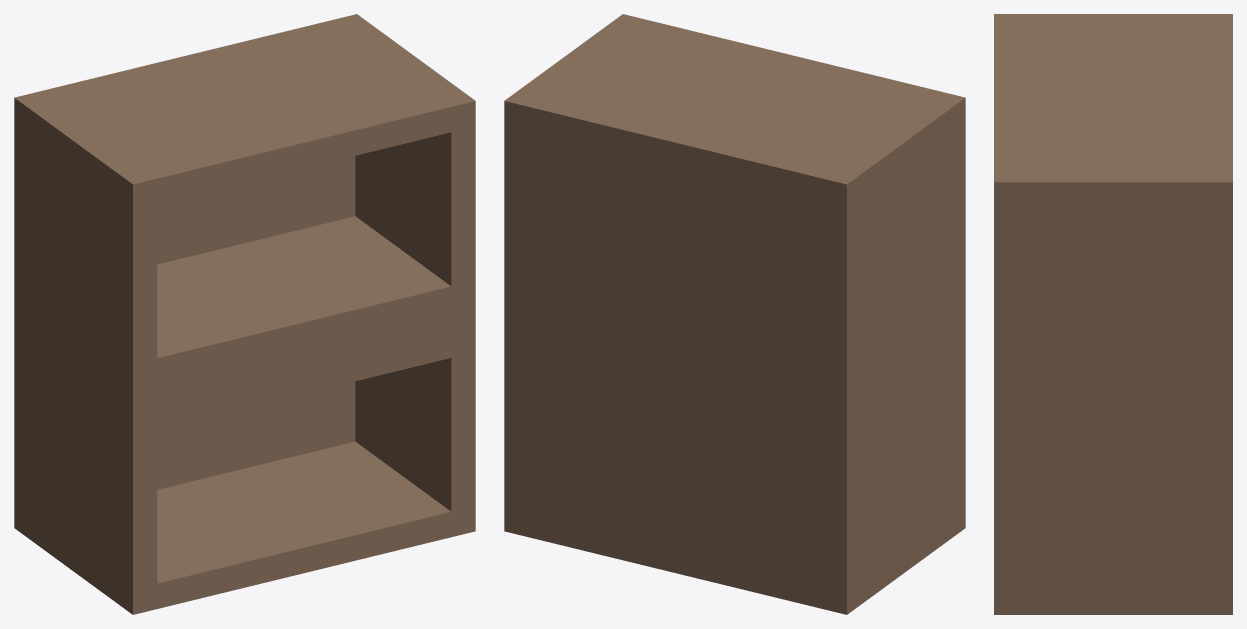
File: shelf 1.FBX
The picture shows the model from 3 angles, left to right: view 1: azimuth 30°, elevation 25°; view 2: azimuth 150°, elevation 25°; view 3: azimuth 270°, elevation 25°; orthographic projection.
Visible parts, largest first — view 1: Box009; view 2: Box009; view 3: Box009.
Part boxes in pixels (x1=…): Box009: x1=14, y1=14, x2=475, y2=614; Box009: x1=504, y1=14, x2=965, y2=614; Box009: x1=994, y1=14, x2=1232, y2=614.
Bounding box in the file's own units: 50 × 60 × 30.
